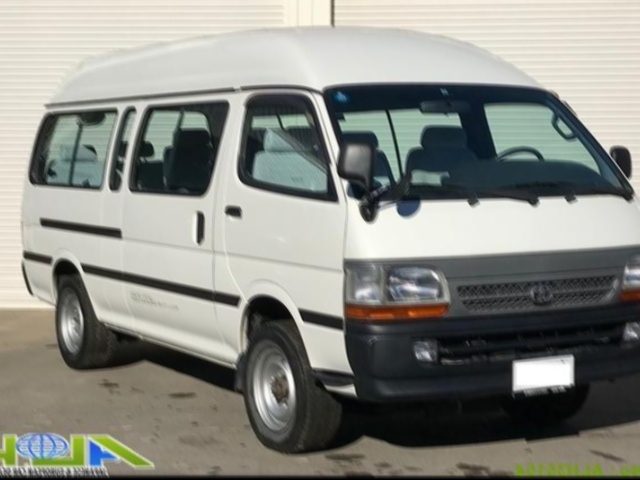van: (15, 21, 640, 414)
